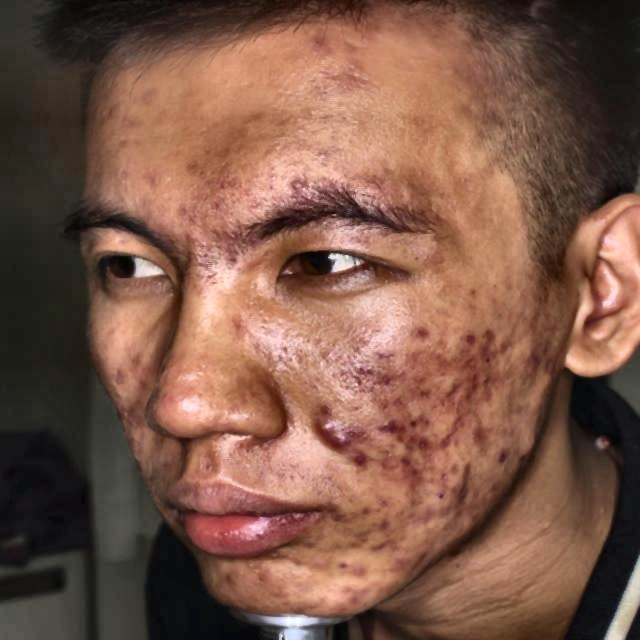nodule: (405, 498, 445, 546), (333, 577, 377, 606), (216, 563, 251, 597), (454, 459, 488, 494), (275, 168, 320, 194), (394, 320, 437, 347), (396, 432, 440, 458), (374, 450, 406, 484), (330, 63, 370, 90), (400, 456, 436, 485), (336, 532, 376, 558), (368, 508, 399, 540), (467, 370, 500, 400), (369, 542, 401, 572), (440, 492, 478, 516), (446, 404, 478, 432), (407, 383, 442, 408), (347, 455, 376, 484), (479, 319, 505, 351), (336, 561, 377, 580), (248, 564, 279, 589), (366, 363, 402, 384), (175, 207, 205, 232), (430, 353, 458, 378), (407, 413, 438, 435), (450, 328, 476, 354), (321, 500, 347, 526), (371, 384, 399, 408), (487, 445, 522, 464), (473, 418, 495, 447), (520, 311, 545, 336), (342, 420, 372, 440), (311, 34, 336, 58), (230, 314, 252, 341), (338, 368, 366, 389), (436, 378, 465, 398), (518, 349, 544, 371), (314, 410, 341, 431), (205, 195, 232, 216), (361, 175, 387, 196), (374, 346, 398, 368), (270, 585, 297, 604), (300, 533, 328, 549), (433, 470, 454, 491), (377, 414, 399, 434), (402, 488, 424, 508), (306, 555, 332, 571), (392, 556, 412, 576), (374, 492, 392, 514), (286, 550, 308, 568), (306, 592, 328, 608), (311, 147, 333, 163), (496, 280, 518, 296), (464, 351, 503, 360), (246, 198, 266, 215), (412, 370, 429, 390), (438, 433, 455, 451), (513, 286, 531, 303), (265, 548, 286, 562), (333, 602, 350, 619), (346, 403, 368, 416), (331, 435, 358, 445)
